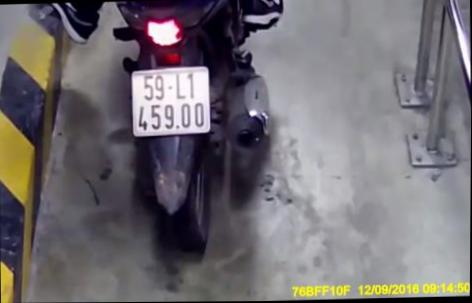LP: (129, 66, 212, 136)
